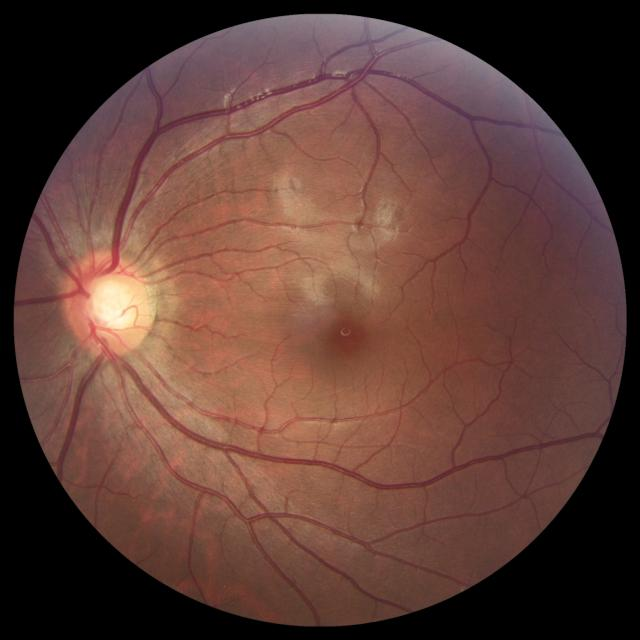OC: (83, 272, 138, 332)
OD: (59, 249, 154, 357)
